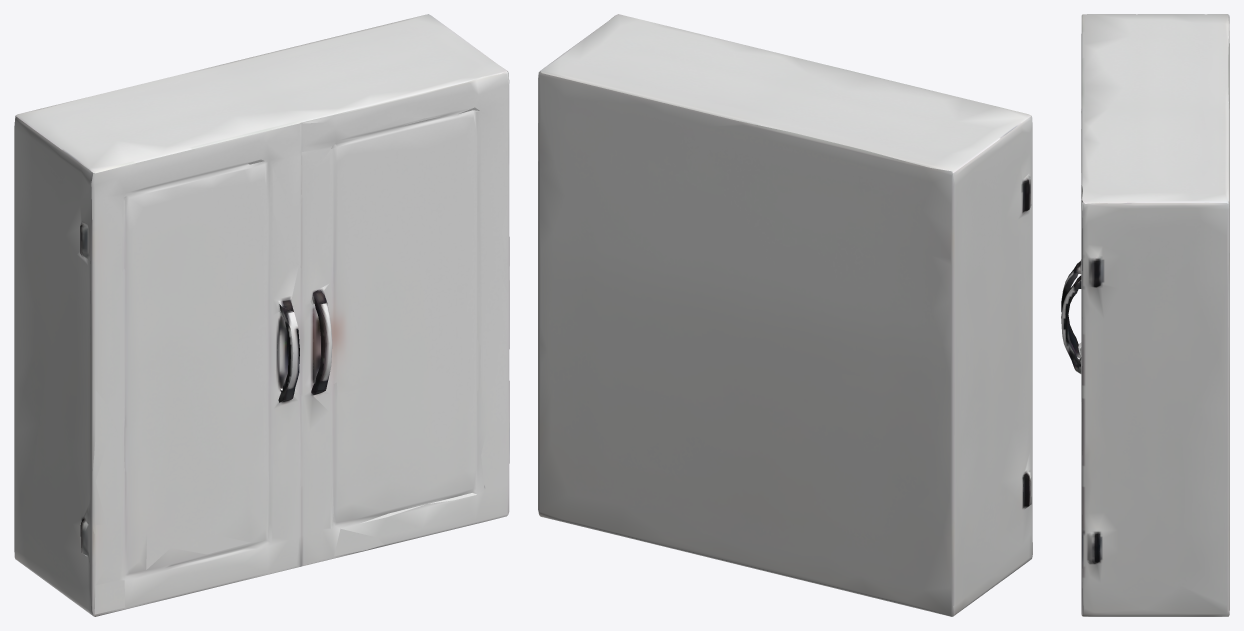
The model's file is PlacardSdb5_3D_textured.glb.
3 renders of one model, left to right at view 1: azimuth 30°, elevation 25°; view 2: azimuth 150°, elevation 25°; view 3: azimuth 270°, elevation 25°, orthographic. The views are drawn at different scales.
Visible parts, largest first — view 1: temp_mesh.ply; view 2: temp_mesh.ply; view 3: temp_mesh.ply.
Part boxes in pixels (x1,y1,x2,y2): temp_mesh.ply: (14,14,509,616); temp_mesh.ply: (538,14,1032,616); temp_mesh.ply: (1061,14,1229,616).
Size of the model in its own units: 1.97 by 1.97 by 0.7268.
1 material, 1 textured.
